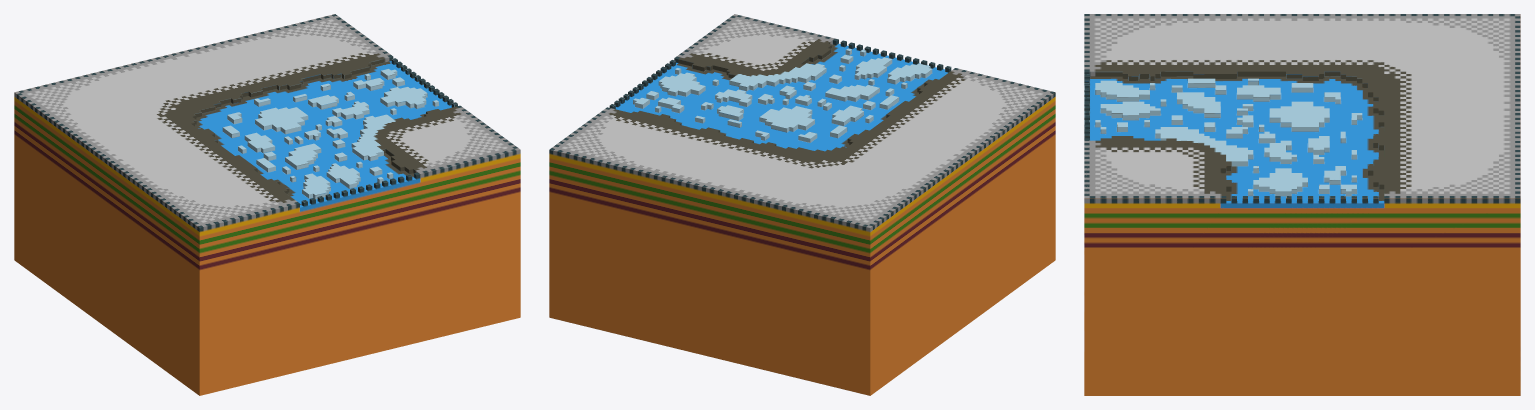
The model's file is ice_river_2_tile.glb.
3 renders of one model, left to right at view 1: azimuth 30°, elevation 25°; view 2: azimuth 150°, elevation 25°; view 3: azimuth 270°, elevation 25°, orthographic. The views are drawn at different scales.
Visible parts, largest first — view 1: ice_river_2_tile; view 2: ice_river_2_tile; view 3: ice_river_2_tile.
Part boxes in pixels (x1,y1,x2,y2): ice_river_2_tile: (14, 14, 520, 395); ice_river_2_tile: (549, 14, 1055, 395); ice_river_2_tile: (1084, 14, 1520, 395).
Bounding box in the file's own units: 8 × 4 × 8.
Materials: 1 (1 with a texture image).
